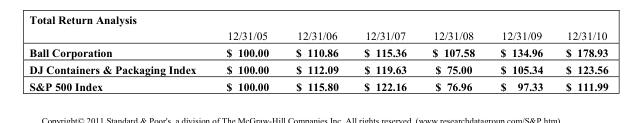table: (28, 29, 607, 92)
table column: (28, 29, 210, 92), (210, 29, 281, 92), (281, 29, 350, 92), (350, 29, 418, 92), (418, 29, 486, 92), (486, 29, 553, 92), (553, 29, 607, 92)
table column header: (28, 29, 607, 43)
table row: (28, 43, 607, 60), (28, 60, 607, 77), (28, 77, 607, 92), (28, 29, 607, 43)
